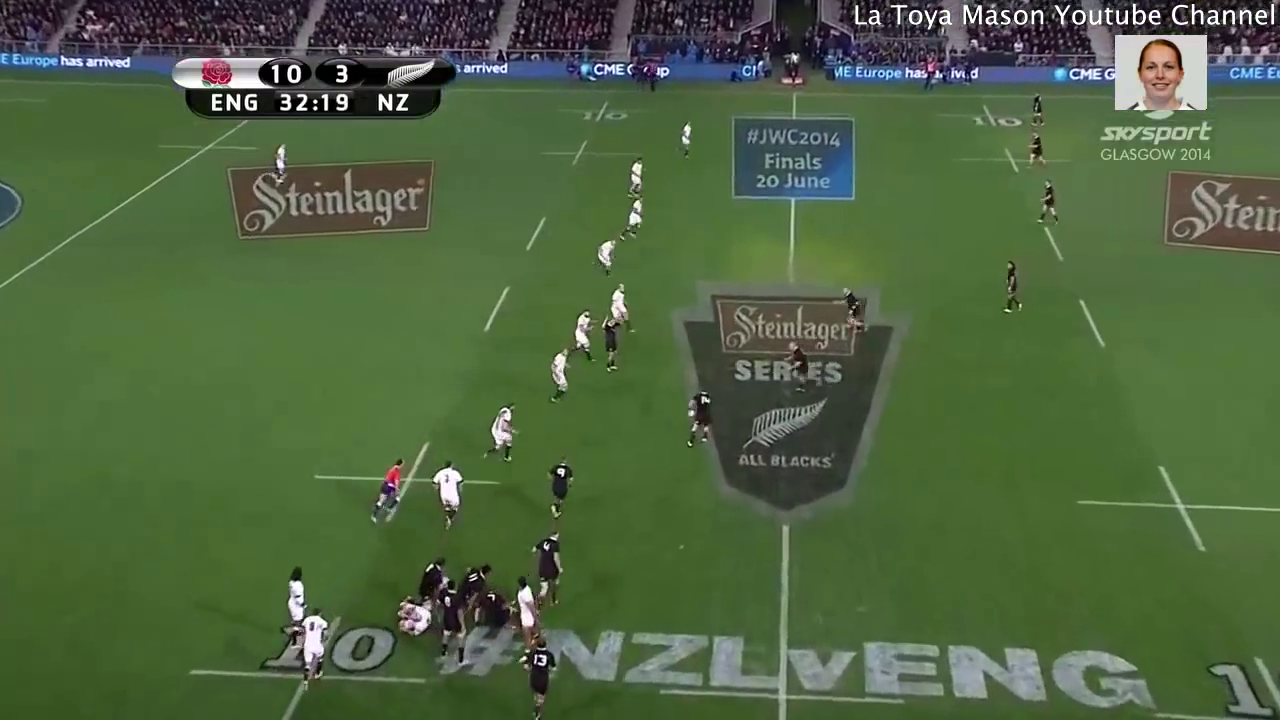10_metre: (177, 608, 428, 720), (1064, 460, 1280, 562), (1144, 650, 1280, 719), (520, 136, 650, 172), (953, 145, 1076, 176), (934, 102, 1039, 135), (546, 97, 660, 127)
ball: (684, 404, 697, 421)
player: (429, 578, 472, 668), (520, 635, 558, 720), (508, 574, 541, 666), (480, 398, 524, 466), (426, 459, 467, 530), (368, 455, 408, 527), (297, 604, 330, 691), (531, 525, 565, 608), (678, 384, 719, 452), (542, 453, 580, 524), (281, 561, 311, 650), (829, 284, 869, 340), (542, 344, 575, 409), (567, 305, 600, 366), (780, 337, 814, 395), (997, 257, 1028, 318), (595, 310, 623, 373), (473, 586, 509, 634), (606, 284, 638, 337), (1034, 176, 1062, 230), (458, 561, 494, 603), (416, 555, 447, 603), (396, 597, 433, 636), (586, 237, 619, 280), (1023, 130, 1053, 174), (619, 195, 645, 243), (624, 155, 647, 201), (675, 118, 696, 160), (1028, 89, 1047, 129)
